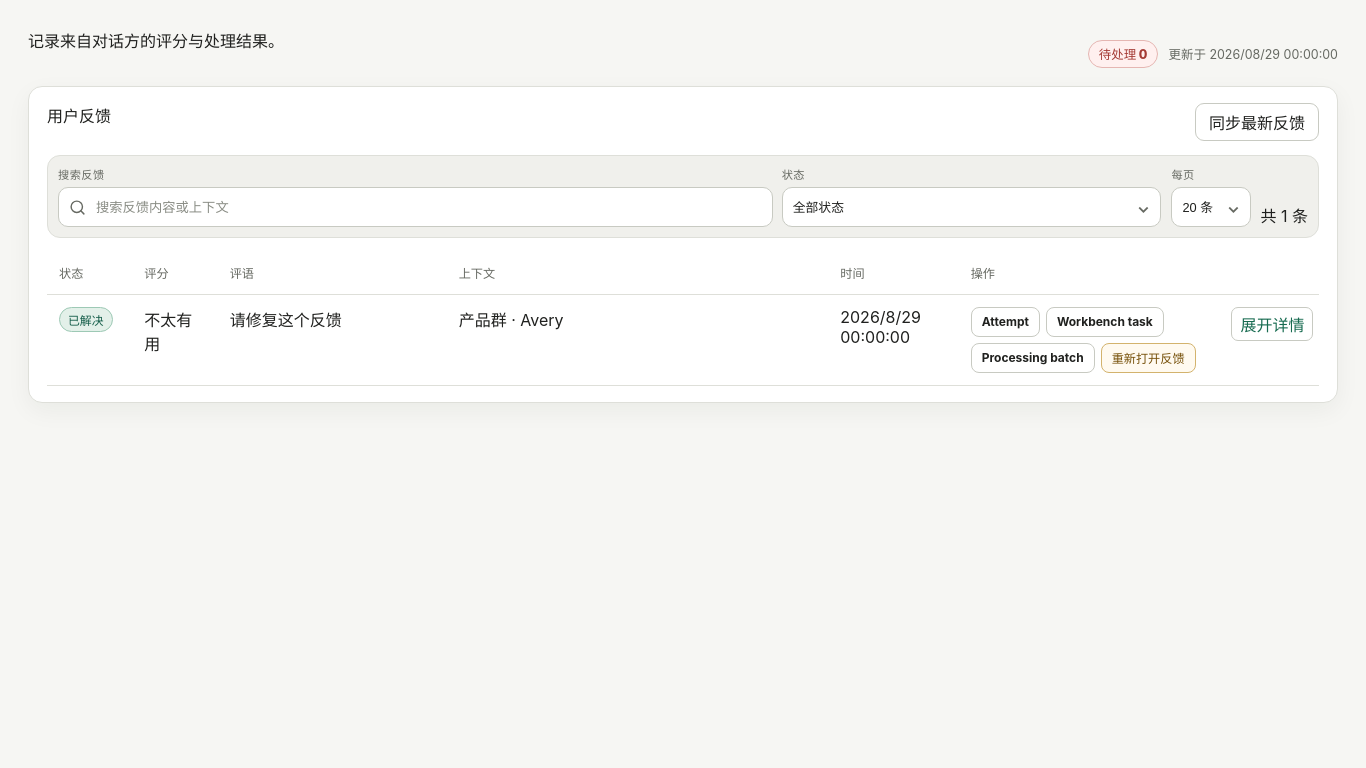
Test case: FeedbackPage › keeps the authoritative pending projection when the follow-up refresh fails
Click the button "重新打开反馈" at (1148, 358), box [1101,343,1196,373]
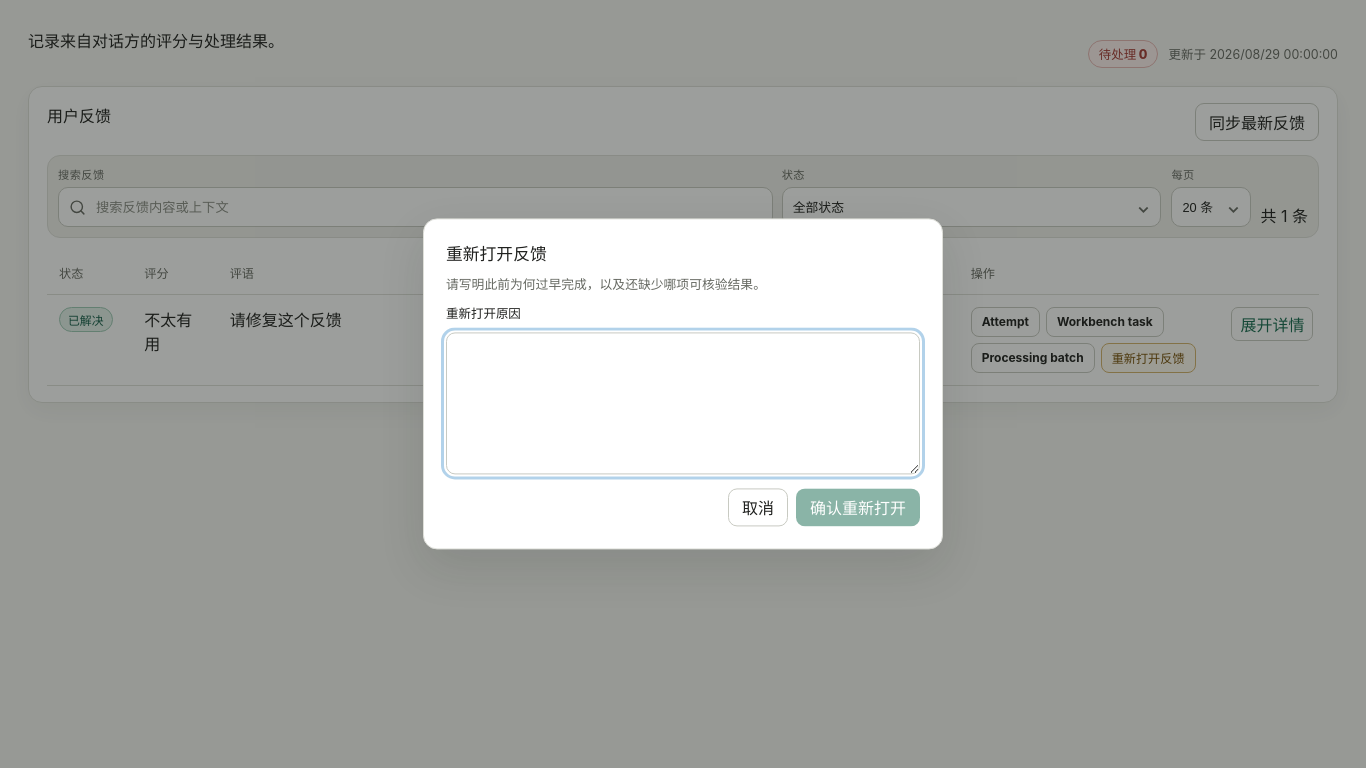
Type "服务重启核验尚未完成。" into the text box labelled "重新打开原因" at (683, 404), box [446,333,920,475]
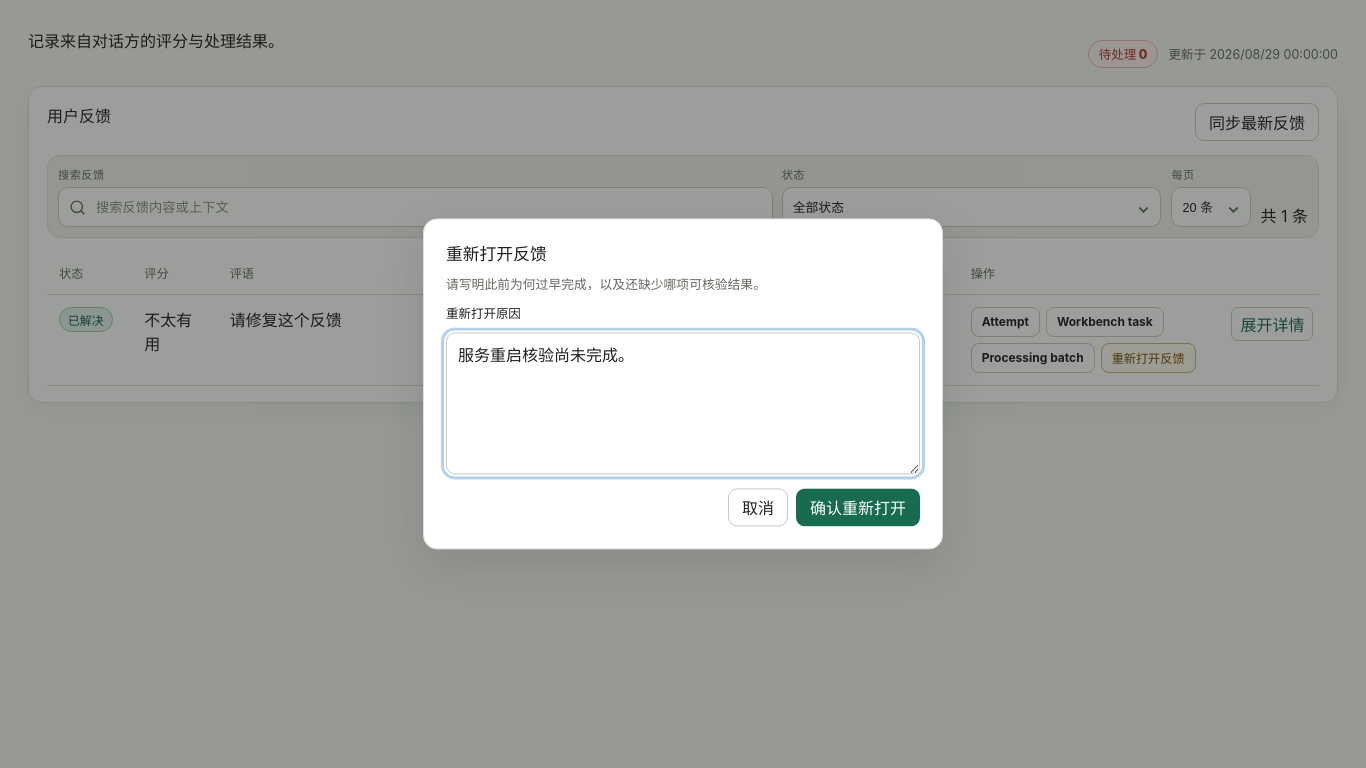
Click the button "确认重新打开" at (858, 508), box [796,489,920,527]
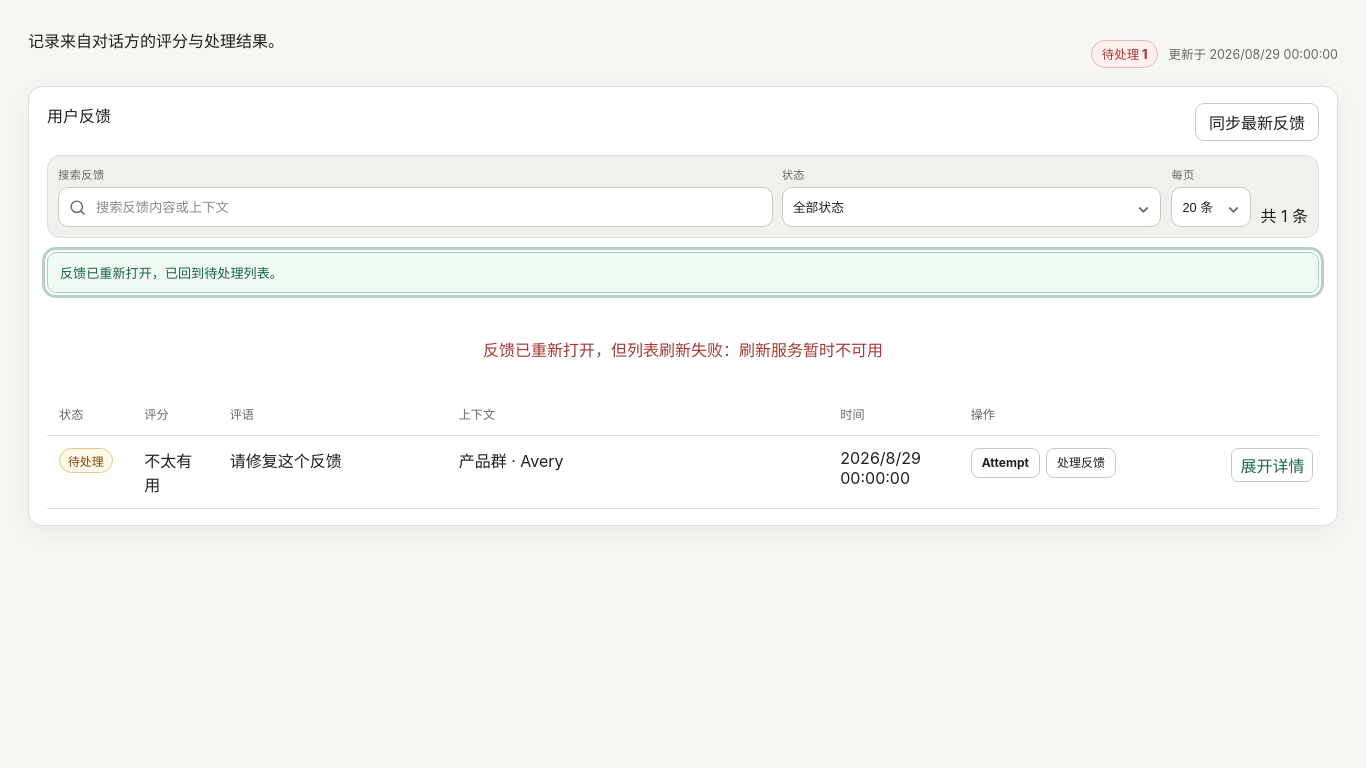
Check: the button "重新打开反馈" is gone
Check: the message "反馈已重新打开，但列表刷新失败：刷新服务暂时不可用" is shown, box [483,340,883,360]
Check: the text "待处理" is shown, box [59,448,112,473]
